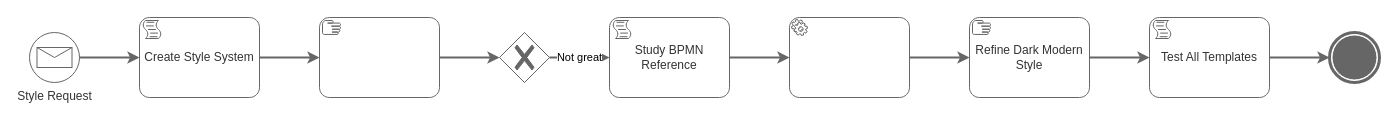
Some shapes in this 1397 by 121 pixel diagram are drawn without their labels. The box of each missing label's shape, as (x1, y1, x2, y2) in pixels:
Add Custom Shapes: (318, 16, 440, 98)
Add Stencil Shapes: (788, 16, 910, 98)
Visual Review: (498, 32, 550, 82)
